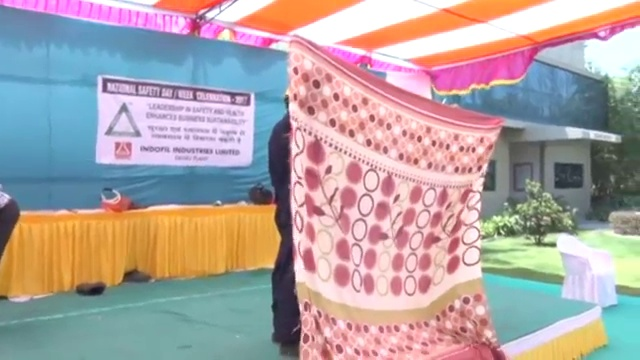person: (263, 88, 308, 355)
